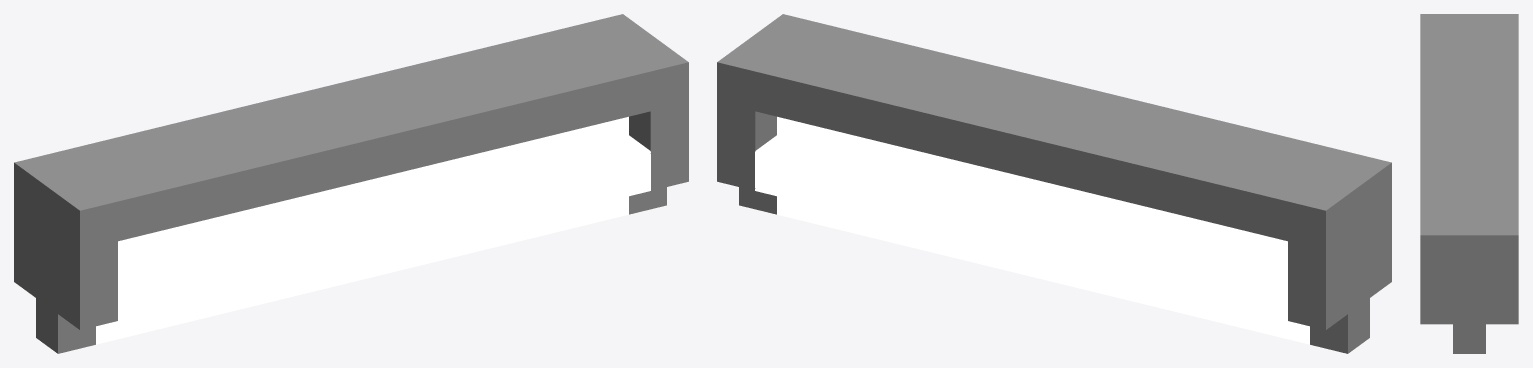
File: Swietlowka.dae
3 views of the same model, side by side, from view 1: azimuth 30°, elevation 25°; view 2: azimuth 150°, elevation 25°; view 3: azimuth 270°, elevation 25° (orthographic). The views are drawn at different scales.
Parts seen in each view (by area): view 1: Swietlowka; view 2: Swietlowka; view 3: Swietlowka.
Part boxes in pixels (x1=…): Swietlowka: x1=14, y1=14, x2=688, y2=353; Swietlowka: x1=717, y1=14, x2=1391, y2=353; Swietlowka: x1=1420, y1=14, x2=1518, y2=353.
Size of the model in its own units: 16 by 4 by 3.
1 material, 1 textured.
